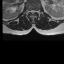CCS_normal: (32, 8, 33, 16)
LFS_stenosis: (35, 8, 37, 14)
LLS_normal: (33, 8, 35, 14)
RFS_normal: (28, 8, 30, 14)
RLS_normal: (30, 8, 32, 15)
